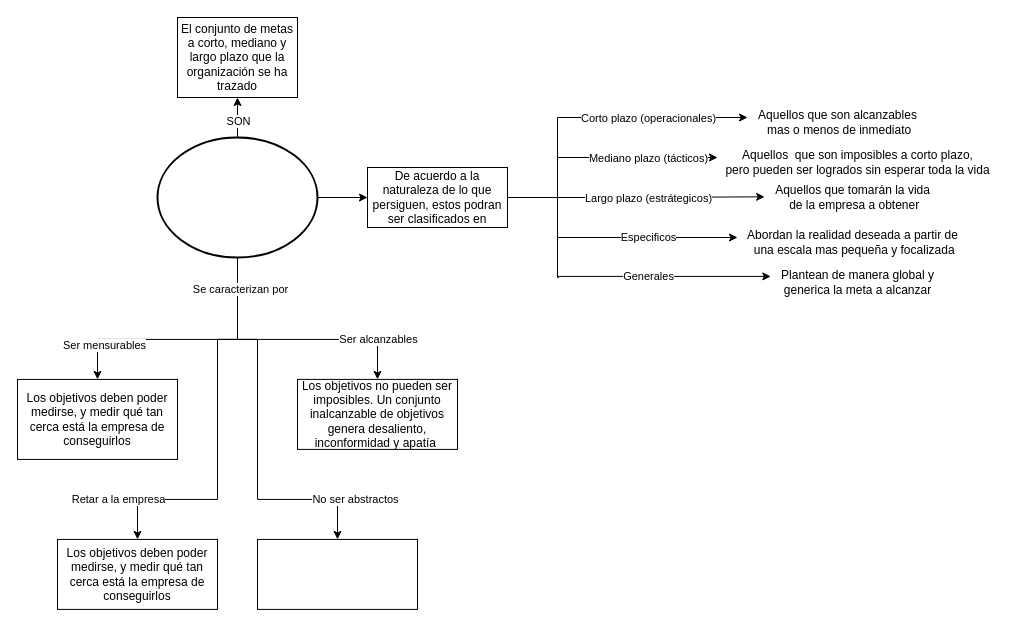
Image size: 1015x627. Some labels were removed from this diagram. Each missing label, with the centre of its shape:
"Deben ser claros, concisos y directos" goes at (337,573).
"OBJETIVOS EMPRESARIALES" goes at (237,197).
